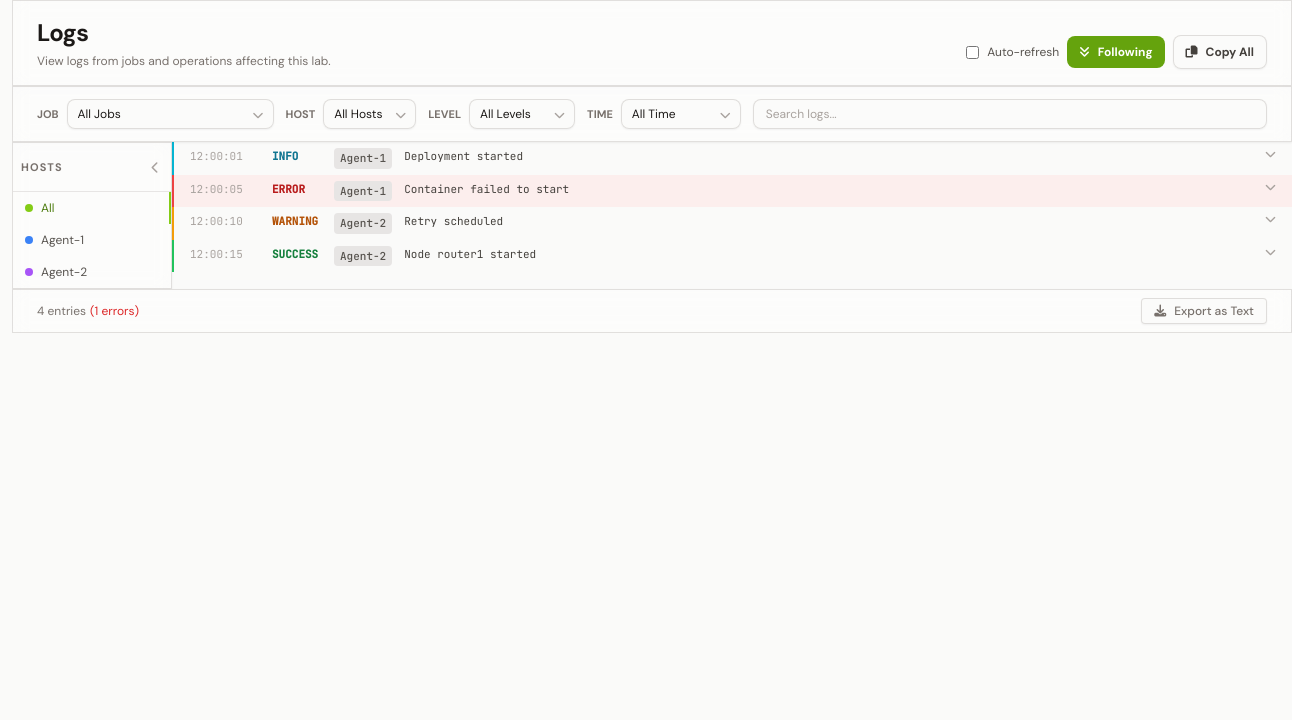
it: LogsView - details and pipeline › shows error message when job log fetch fails
Click the text "Deployment started" at [464, 156], box [404, 149, 523, 163]
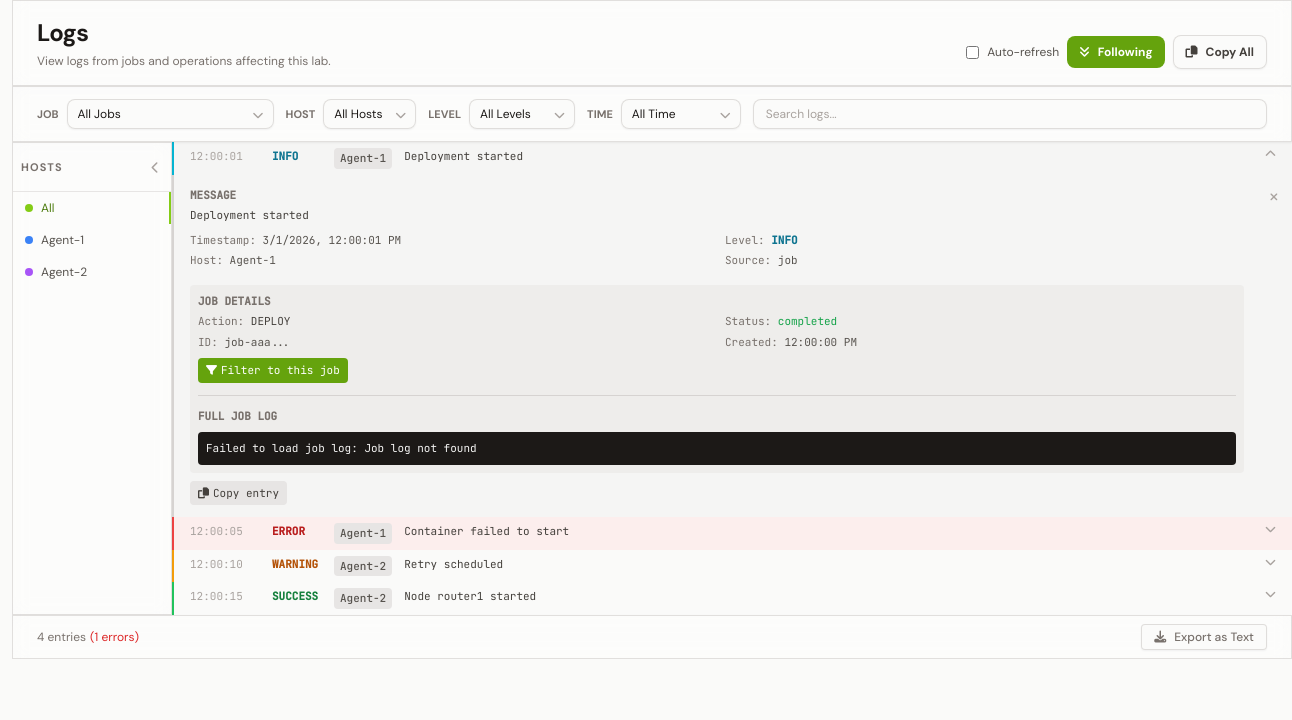
Now the text "Failed to load job log: Job log not found" is shown, box [198, 432, 1236, 464]
